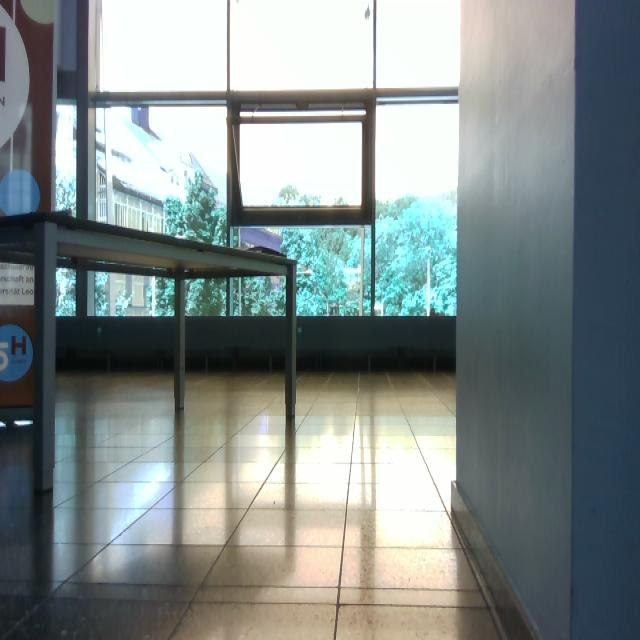light bulb: (1, 169, 41, 217), (270, 276, 281, 292), (365, 5, 371, 20)
table: (2, 209, 301, 497)
tiled floor: (2, 368, 506, 638)
window: (80, 1, 462, 321)
